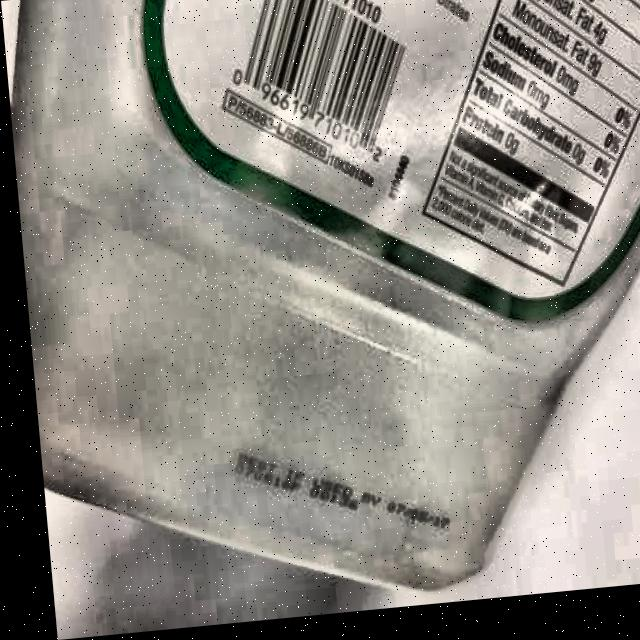plastic: (0, 0, 640, 626)
